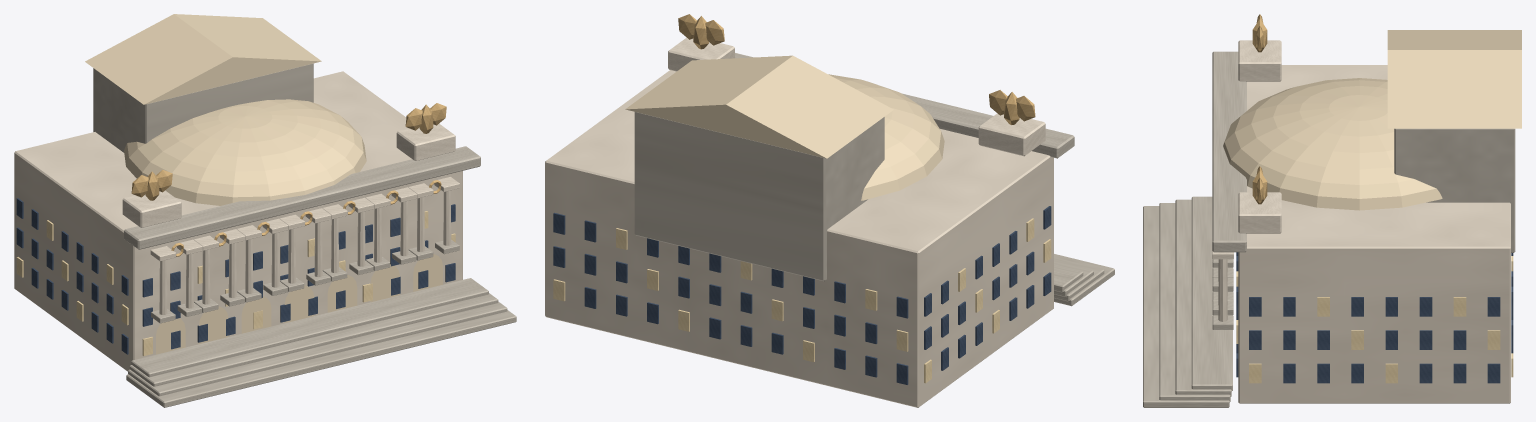
Rendered from palais-garnier.glb.
3 renders of one model, left to right at view 1: azimuth 30°, elevation 25°; view 2: azimuth 150°, elevation 25°; view 3: azimuth 270°, elevation 25°, orthographic. The views are drawn at different scales.
Visible parts, largest first — view 1: palais-garnier; view 2: palais-garnier; view 3: palais-garnier.
Boxes of the visible parts, x1,y1,x2,y2 form: palais-garnier: (14,14,516,407); palais-garnier: (545,14,1114,407); palais-garnier: (1143,14,1521,407).
Size of the model in its own units: 10.7 by 6.7 by 8.75.
1 material, 1 textured.
